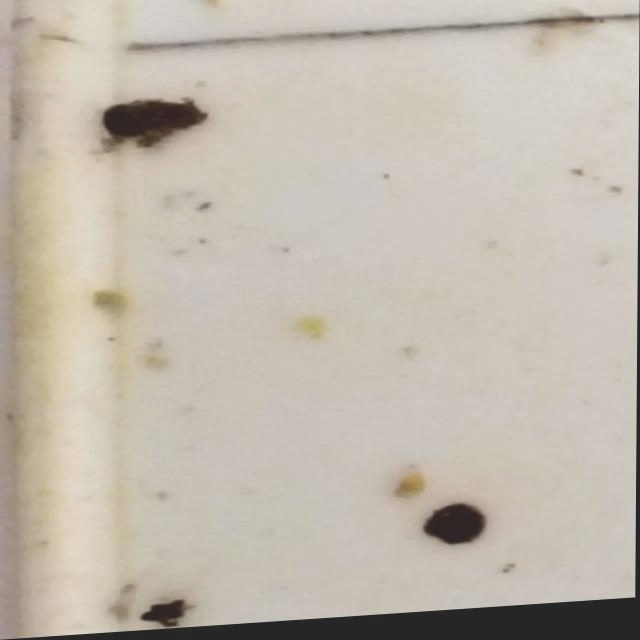varroa: (97, 101, 214, 144), (425, 507, 491, 556)
